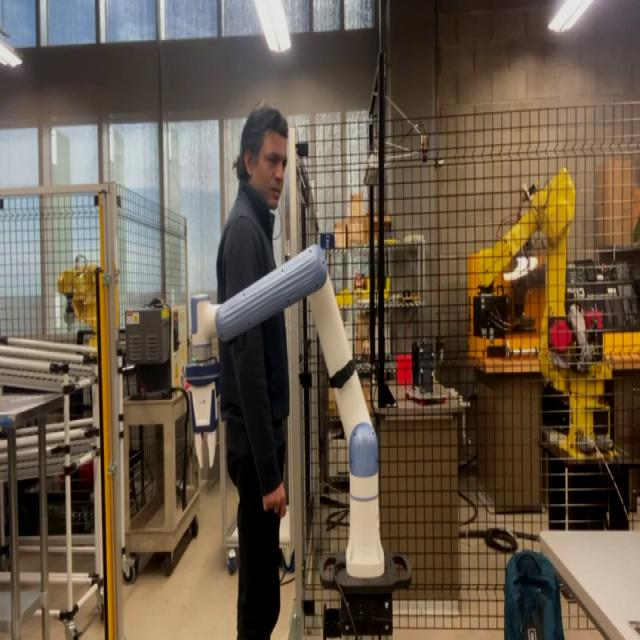robot: (176, 232, 398, 587)
